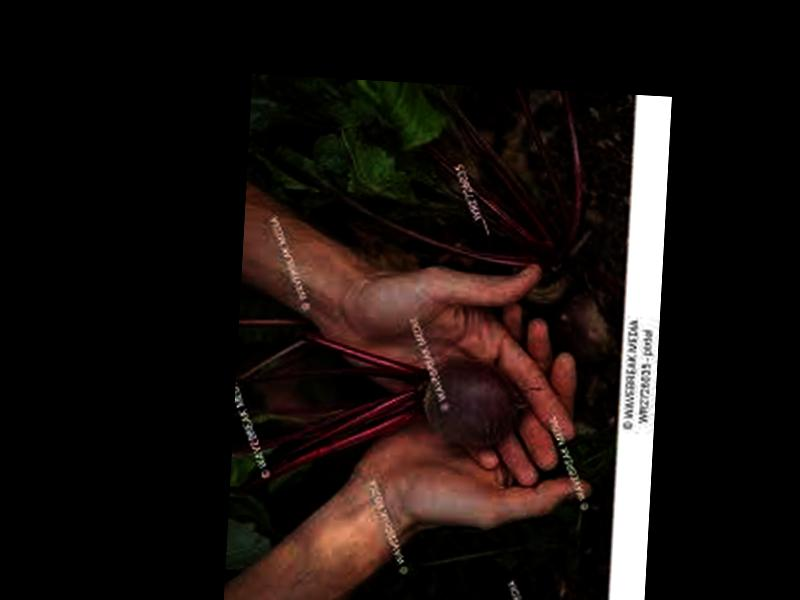Beet: (238, 327, 531, 510)
